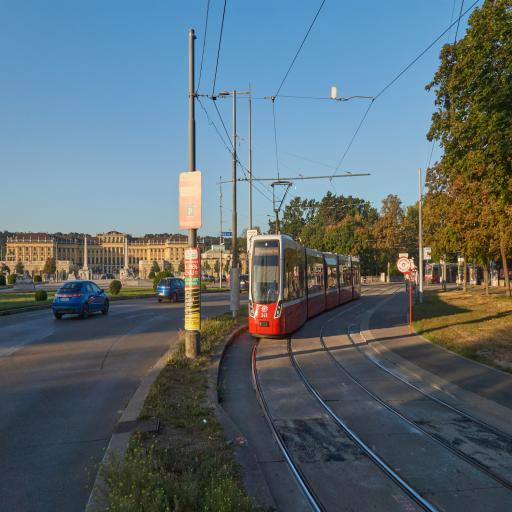Flexity: (248, 234, 360, 338)
